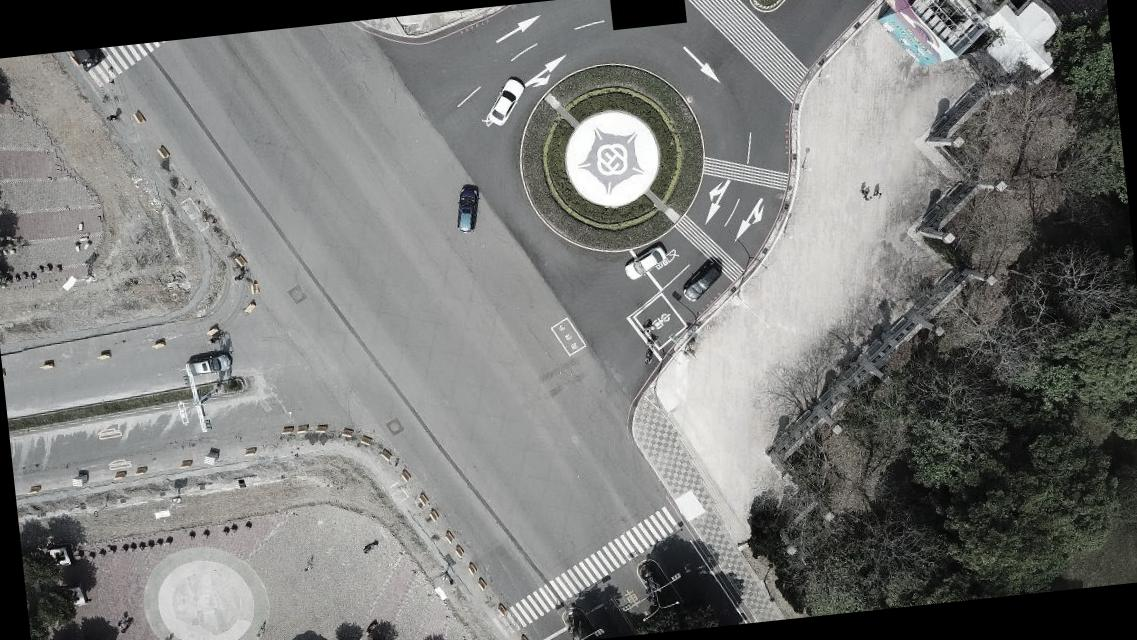vehicle: (484, 76, 528, 126), (680, 260, 724, 304), (622, 243, 670, 281), (452, 185, 483, 235), (184, 349, 235, 378), (69, 47, 106, 74)
